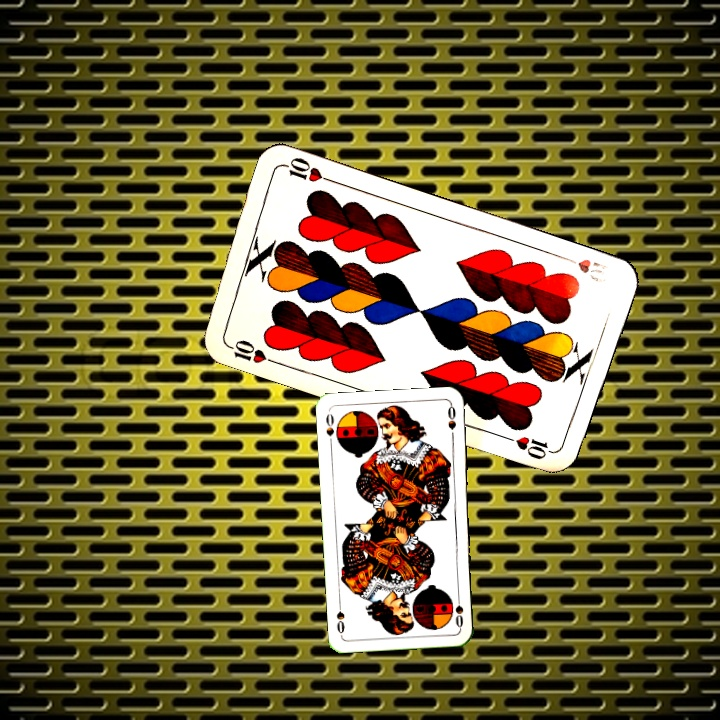H10: (557, 251, 611, 284), (222, 336, 279, 367)
SO: (451, 590, 466, 630), (322, 409, 336, 449)
